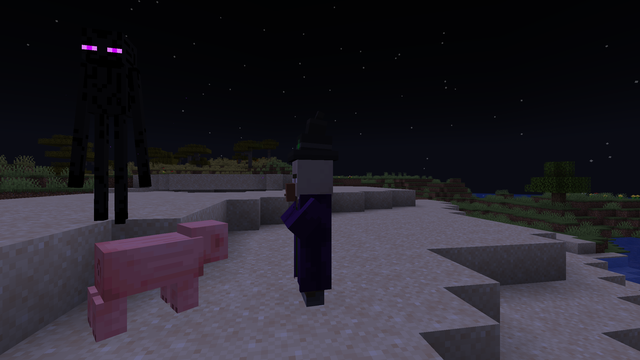cochons: (83, 229, 200, 335)
endermens: (74, 19, 142, 223)
sorcieres: (288, 153, 337, 310)
